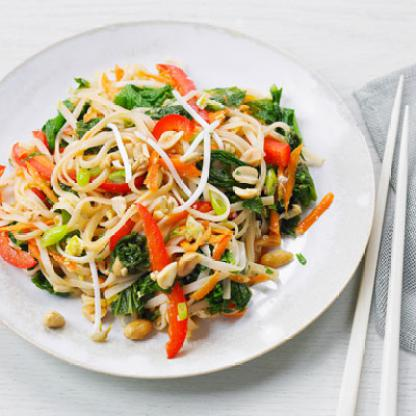Pad Thai: (0, 58, 331, 372)
